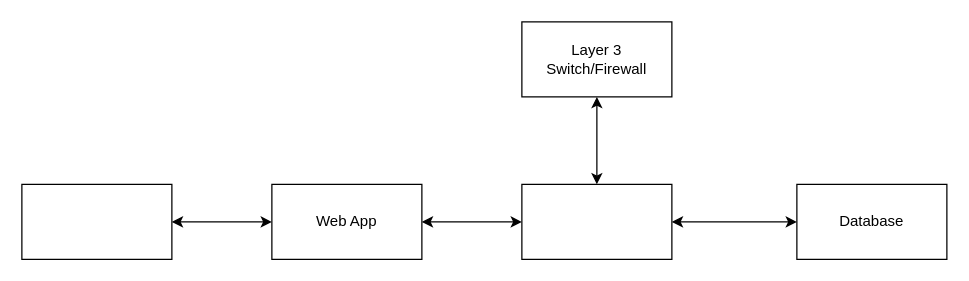
Image size: 969x281. Some labels were removed from this diagram. The shapes that lost their labels are listed below. From the top down, each one's centre as x and y in pixels, then its label:
At point 96,221: "End Users".
At point 596,221: "Web API".
